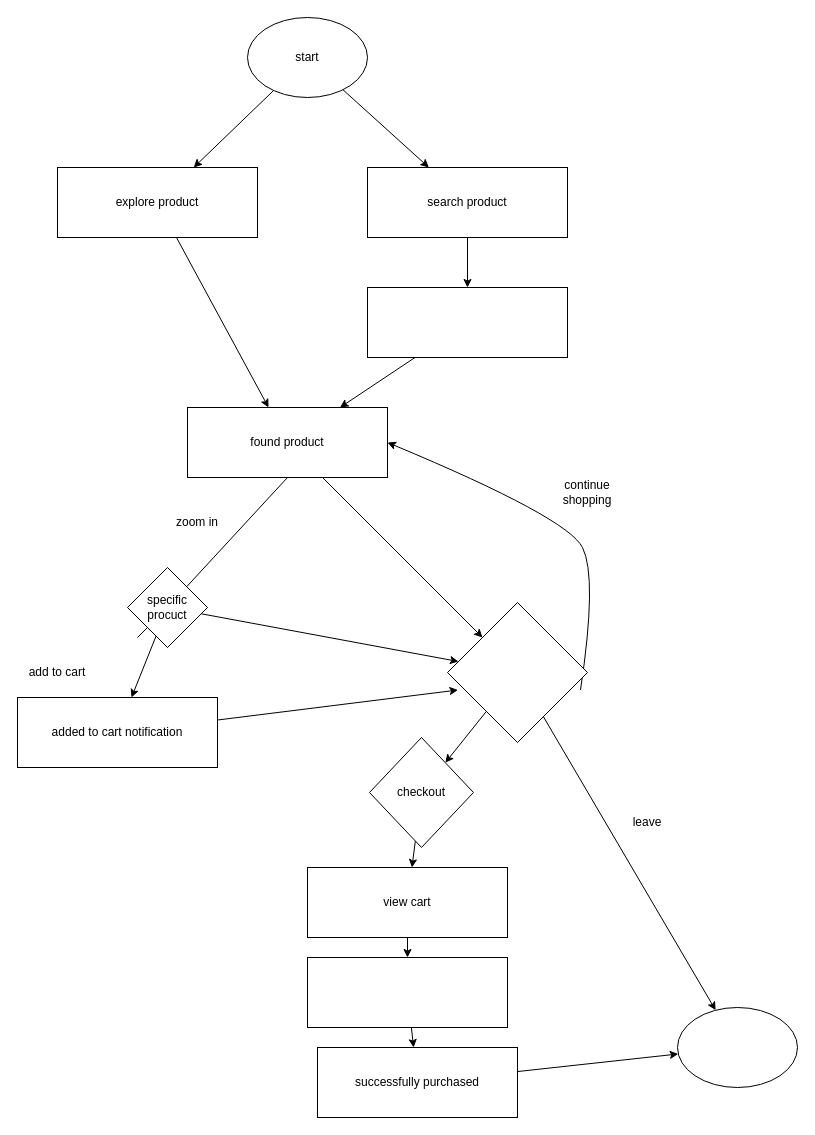
Image size: 815x1135. Some labels were removed from this diagram. The box of each missing label's shape, as (x1, y1, x2, y2) in pixels:
end: (676, 1006, 798, 1088)
not visit specific product: (446, 602, 588, 742)
search result: (366, 286, 568, 358)
view payment: (306, 956, 508, 1028)
